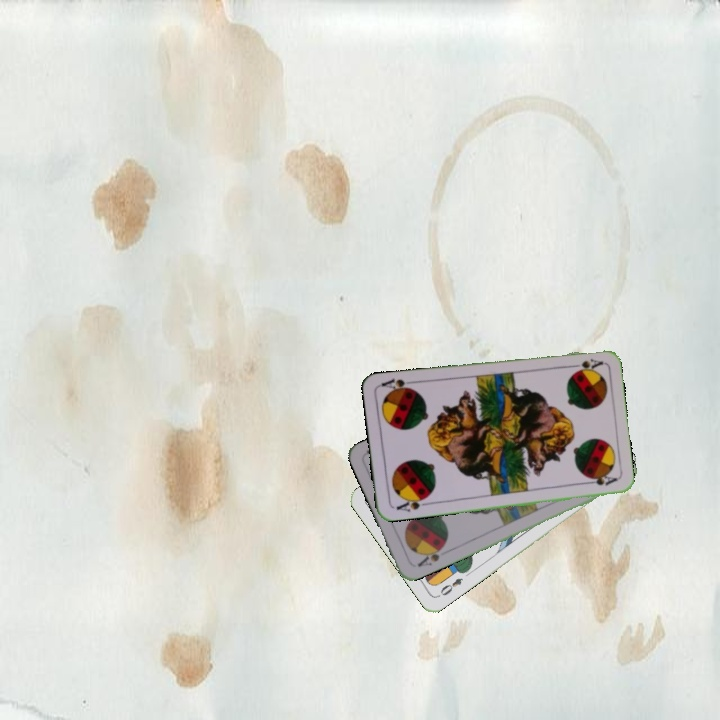EO: (434, 574, 465, 600)
SA: (413, 541, 447, 570), (392, 492, 431, 514), (564, 354, 605, 374)
